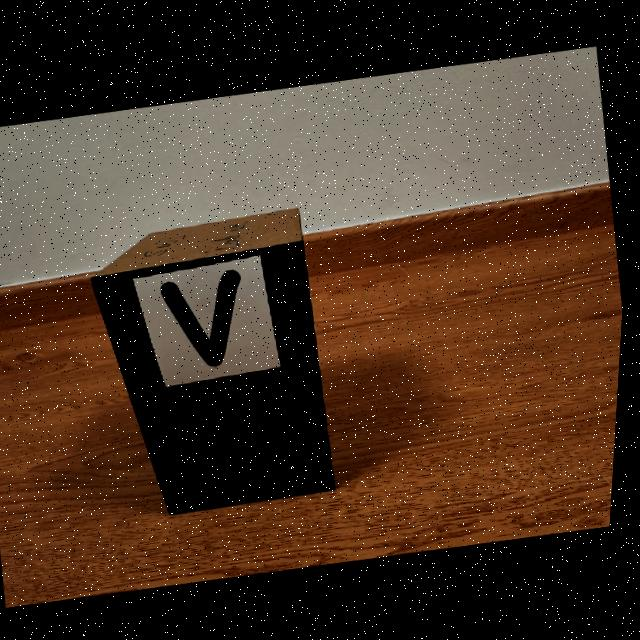V: (164, 270, 244, 366)
